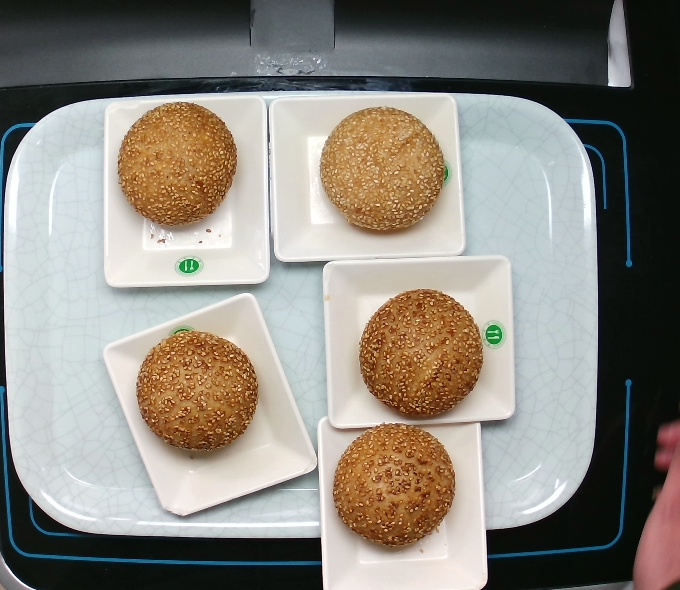wcq-MaCi: (311, 100, 453, 239), (357, 281, 493, 421), (118, 102, 247, 233), (138, 325, 268, 454), (329, 421, 458, 550)
